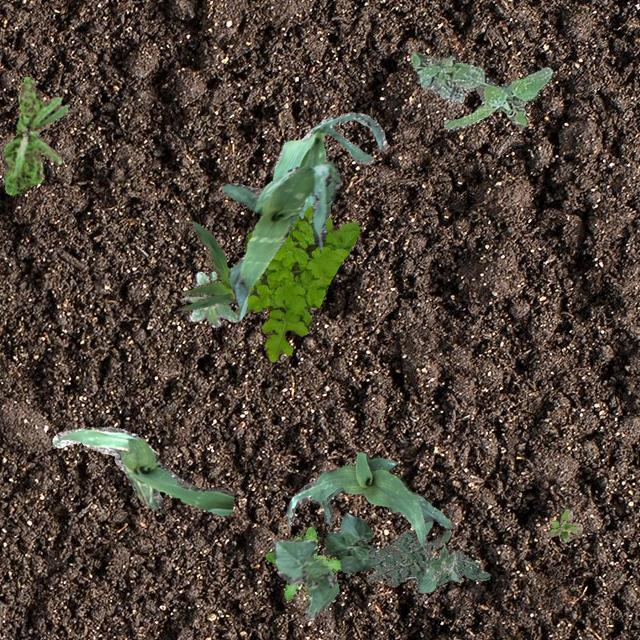crop: (220, 160, 340, 318), (52, 426, 234, 514), (284, 452, 452, 546), (272, 111, 386, 218), (270, 538, 336, 618), (180, 220, 234, 312), (324, 512, 374, 572), (418, 546, 460, 592)
weed: (234, 206, 358, 362), (410, 51, 552, 130), (2, 76, 68, 194), (366, 530, 488, 586), (264, 524, 340, 598), (180, 270, 238, 326), (548, 508, 582, 540)
